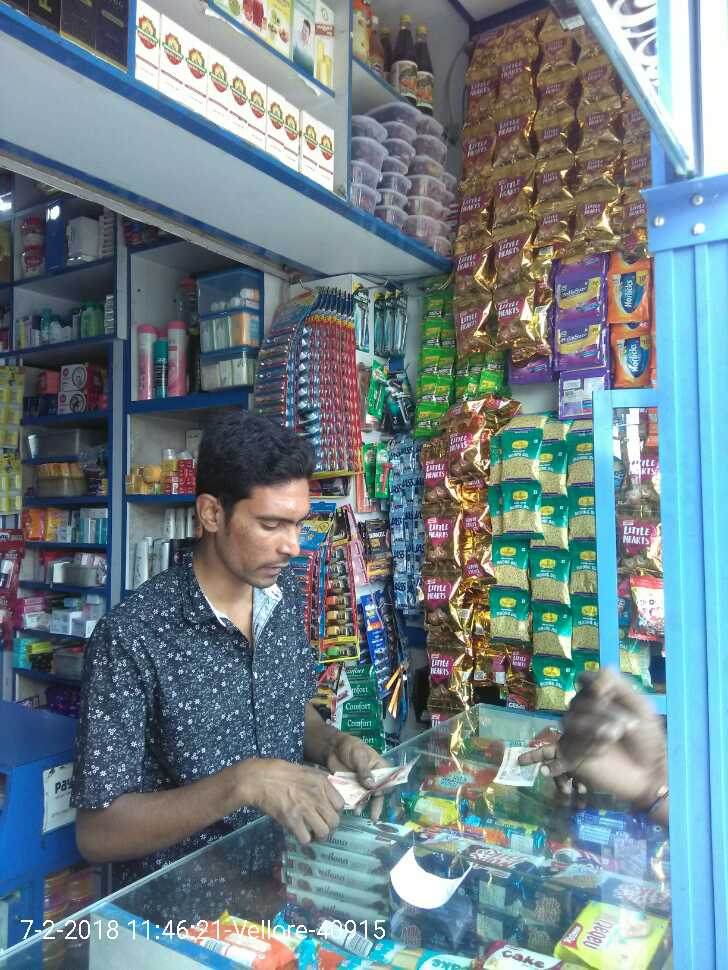gillette: (363, 599, 390, 688)
